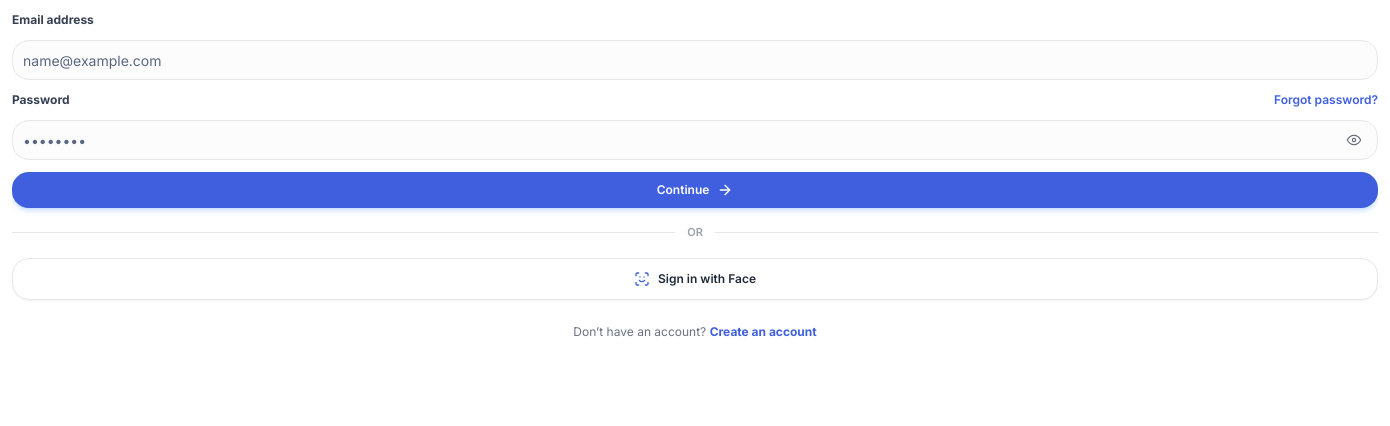
LoginForm › explains login failure 0 without blaming the credentials
Step 1. Type "c@test.dev" into the field labelled "Email address" → (695, 60), box x1=12 y1=40 x2=1378 y2=80
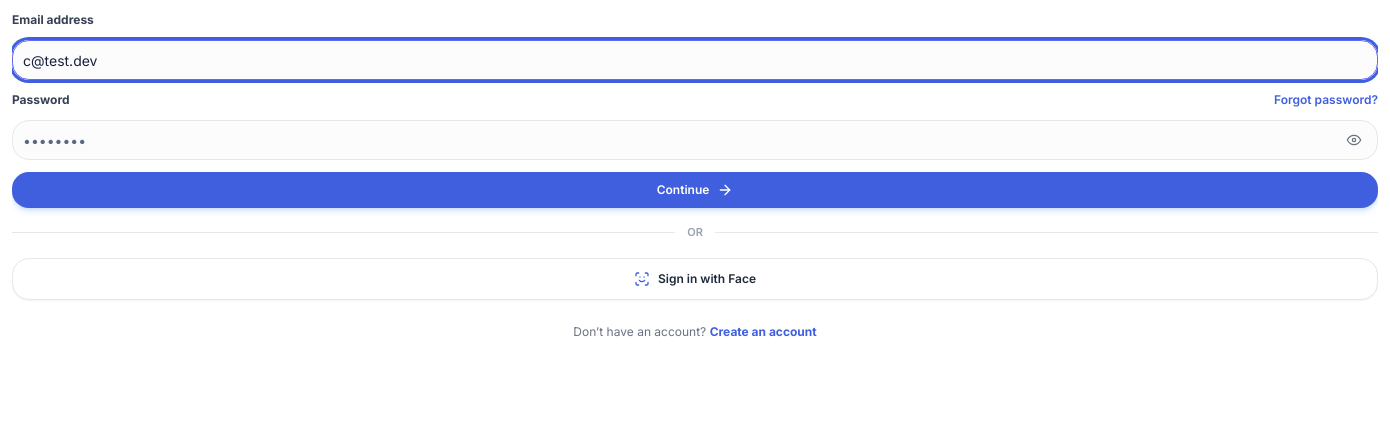
Step 2. Type "Password123" into the password field labelled "Password" → (695, 140), box x1=12 y1=120 x2=1378 y2=160
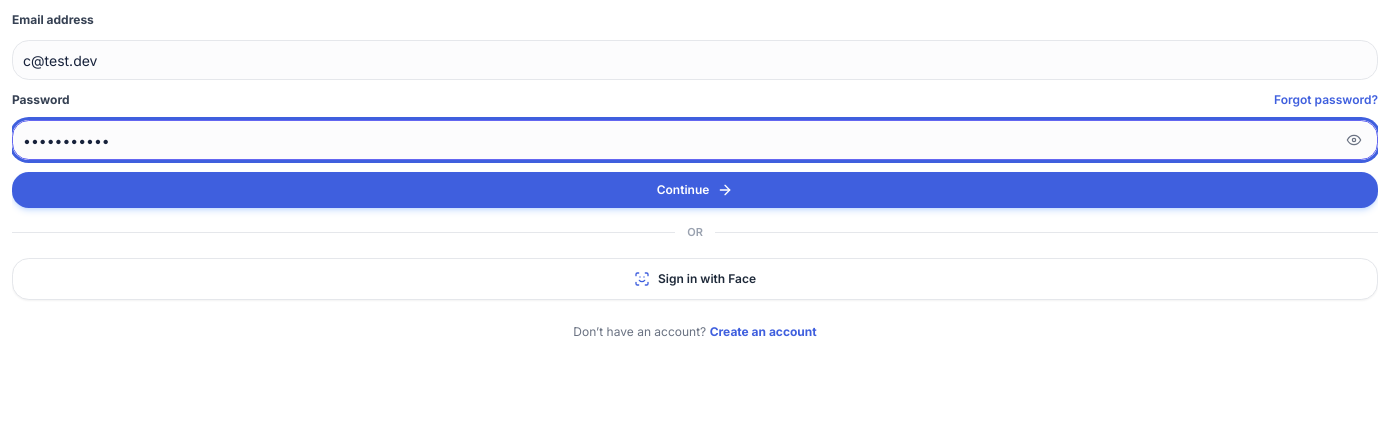
Step 3. Click the button "Continue" → (695, 190), box x1=12 y1=172 x2=1378 y2=208
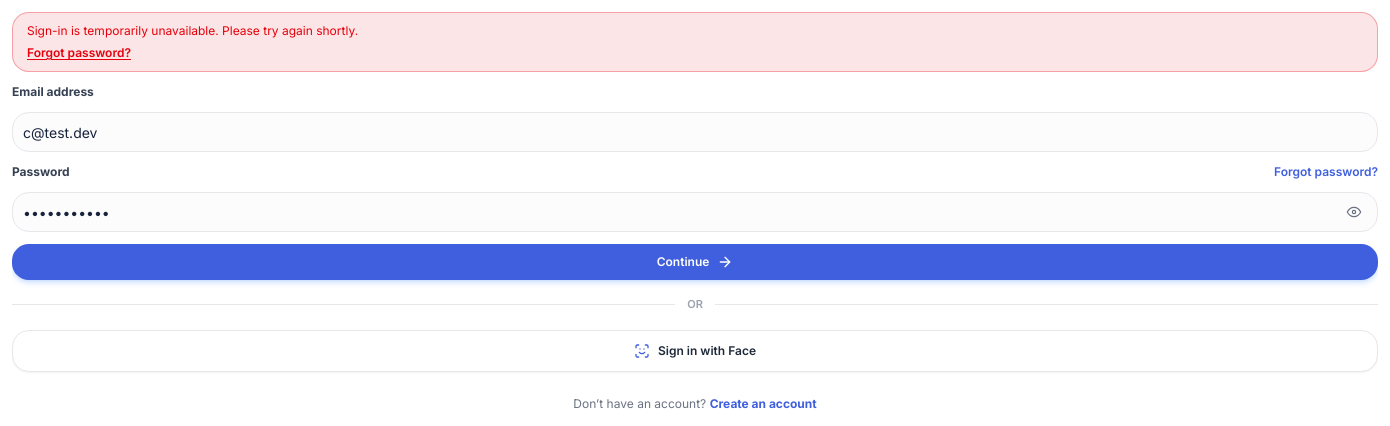
Expected: the message shows "Sign-in is temporarily unavailable. Please try again shortly.", x1=27 y1=23 x2=358 y2=38
